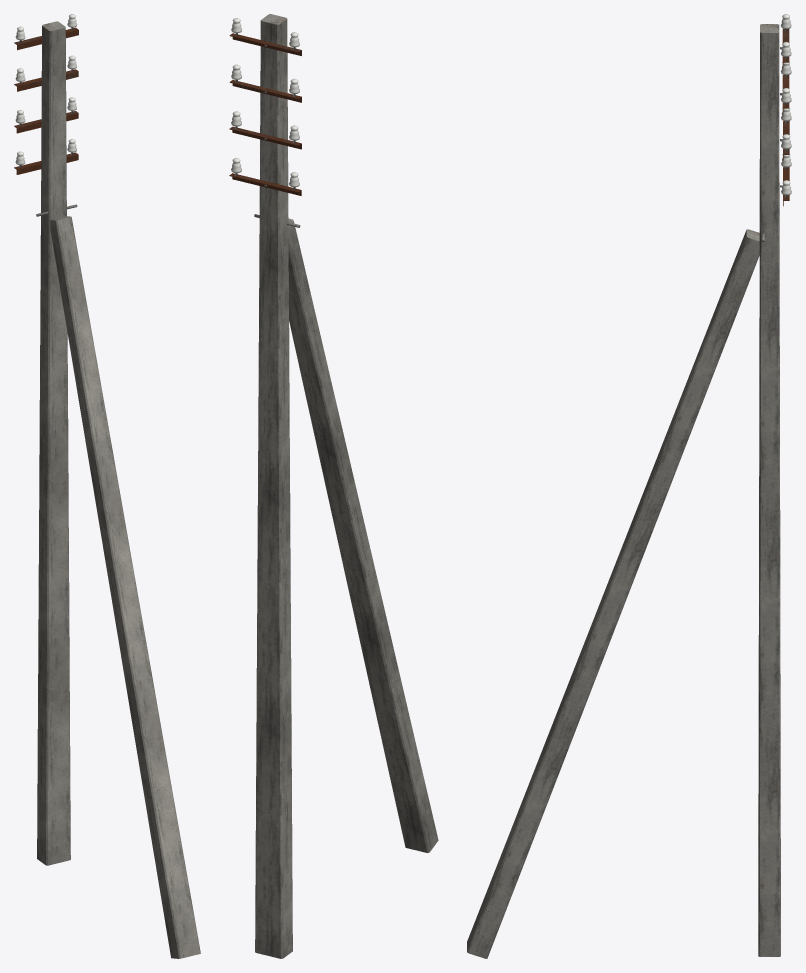
File: pole_sv95_anchor_web.glb
3 renders of one model, left to right at view 1: azimuth 30°, elevation 25°; view 2: azimuth 150°, elevation 25°; view 3: azimuth 270°, elevation 25°, orthographic. The views are drawn at different scales.
Visible parts, largest first — view 1: PoleSV95_Anchor_Mesh; view 2: PoleSV95_Anchor_Mesh; view 3: PoleSV95_Anchor_Mesh.
Boxes of the visible parts, x1,y1,x2,y2 form: PoleSV95_Anchor_Mesh: (14,14,200,958); PoleSV95_Anchor_Mesh: (229,14,438,958); PoleSV95_Anchor_Mesh: (467,14,791,958).
Bounding box in the file's own units: 0.6199 × 8.03 × 2.56.
4 materials, 3 textured.
